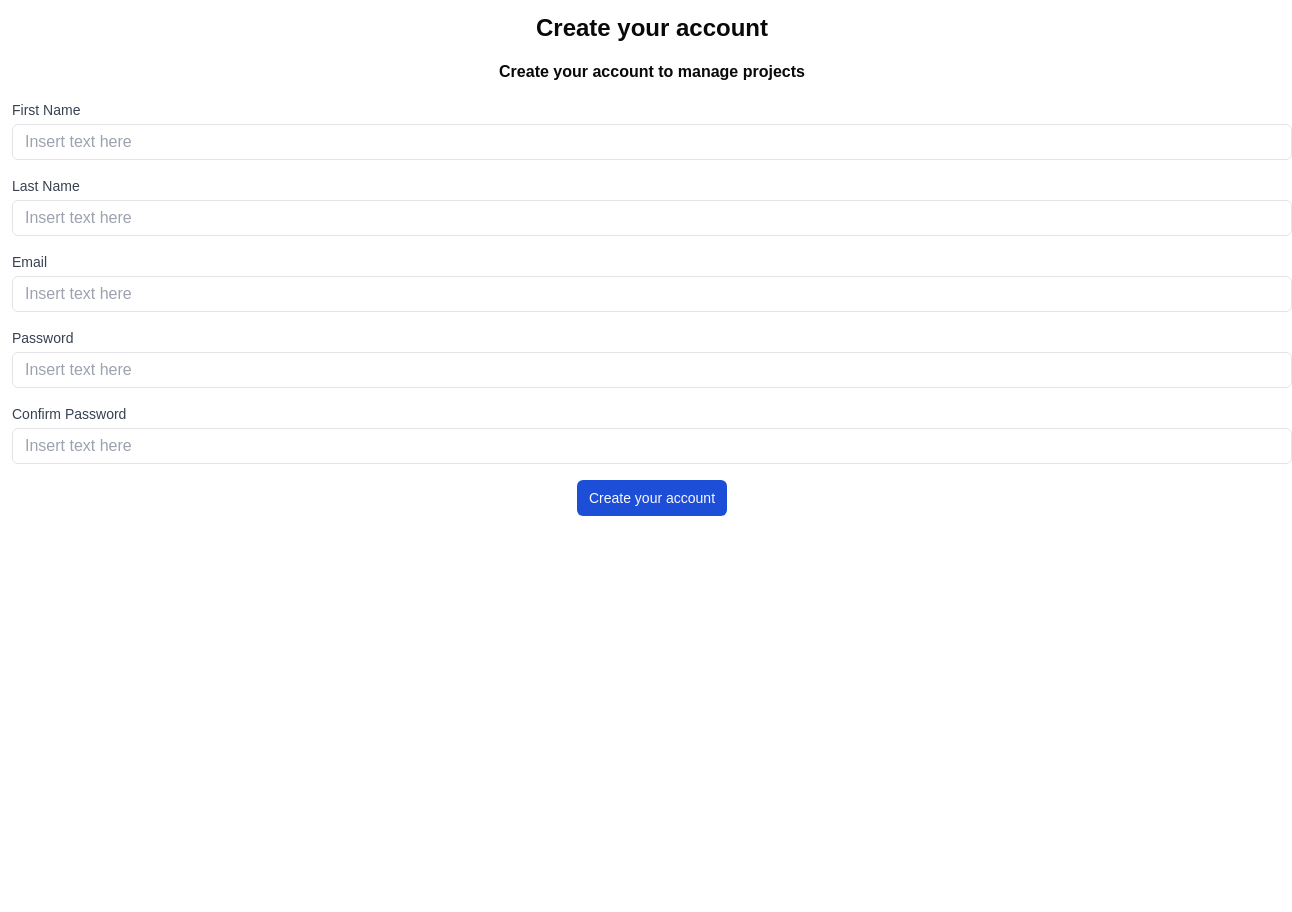
Test: Create User Account › shows validation error when fields are empty
Click the button "Create your account" at (652, 498), box top-left (577, 480), bottom-right (727, 516)
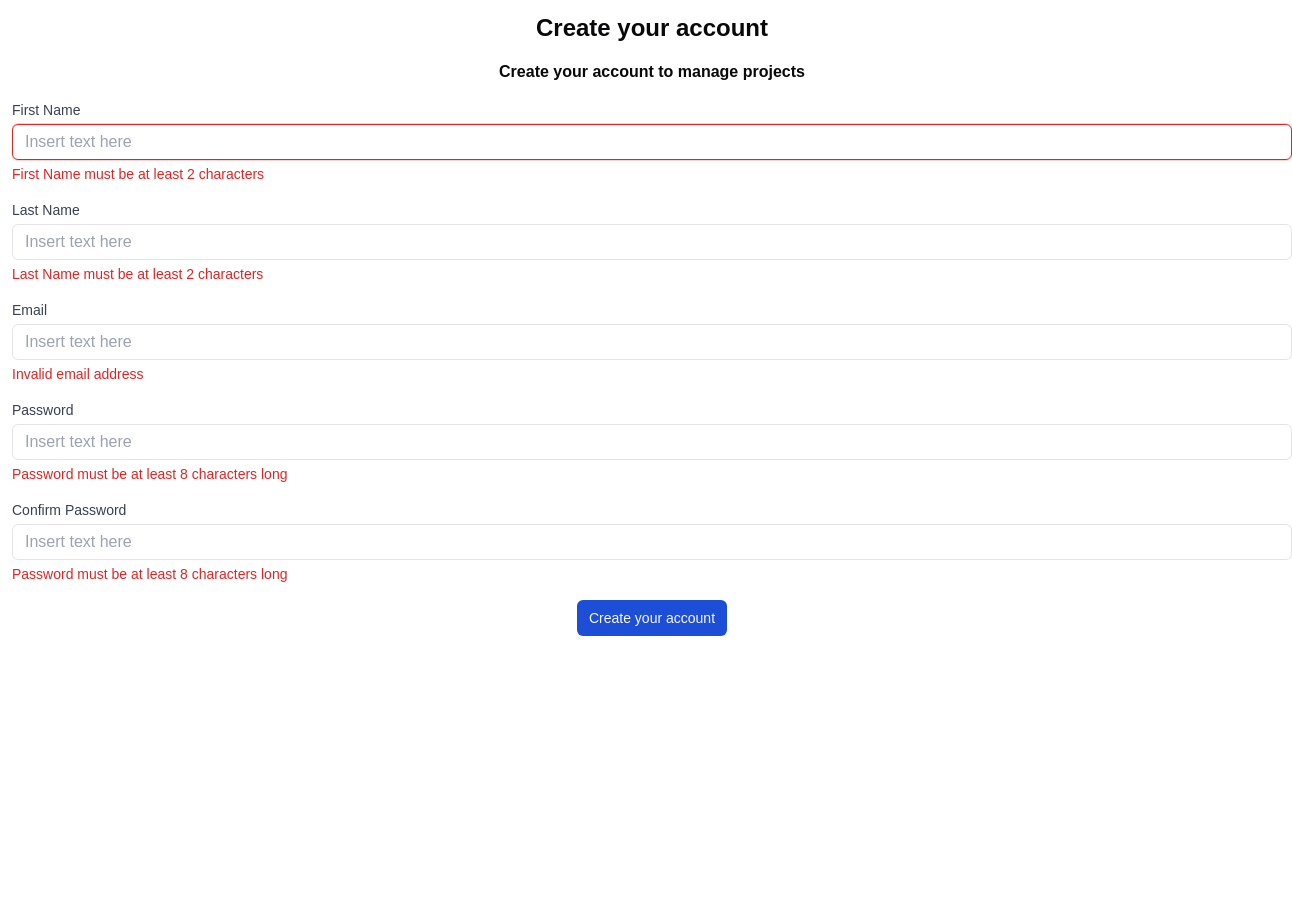
Check: the text "Invalid email address" is shown, box top-left (12, 366), bottom-right (144, 382)
Check: the text "Last Name must be at least 2 characters" is shown, box top-left (12, 266), bottom-right (263, 282)
Check: the 1st text "Password must be at least 8 characters long" is shown, box top-left (12, 466), bottom-right (288, 482)
